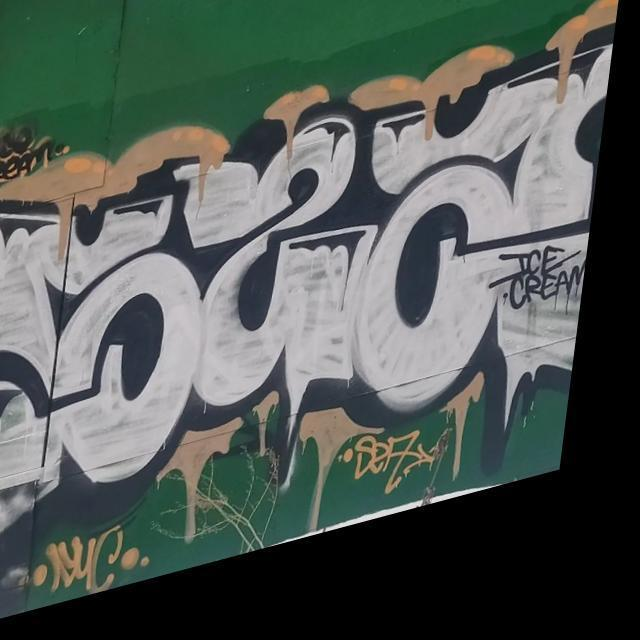-: (0, 54, 621, 572), (17, 522, 176, 622), (493, 236, 603, 371), (334, 433, 464, 538), (0, 105, 72, 205)
